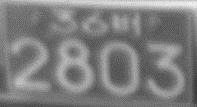0: (99, 41, 141, 97)
2: (10, 36, 51, 92)
3: (146, 42, 186, 98), (49, 6, 78, 34)
6: (80, 7, 108, 35)
8: (55, 37, 94, 94)
버: (110, 9, 141, 36)
